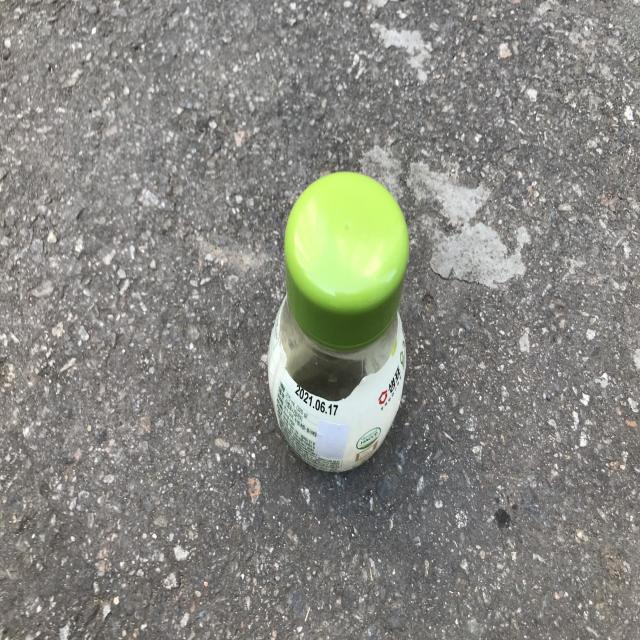glass: (268, 171, 409, 470)
